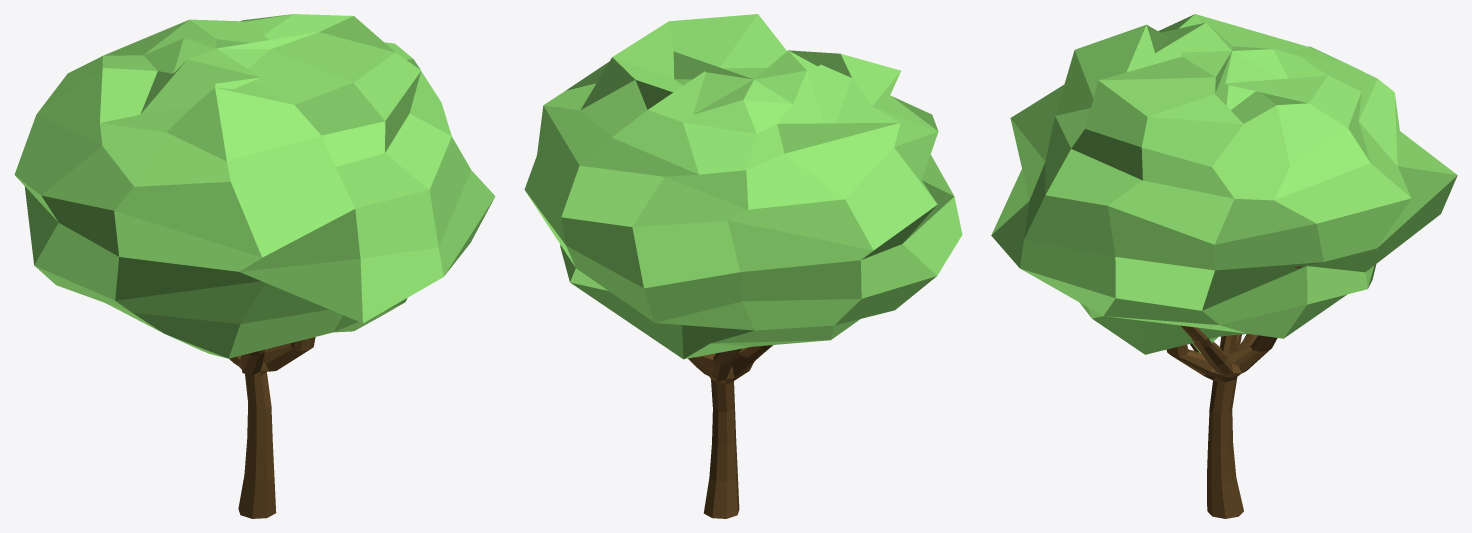
The model's file is LeavedTree.fbx.
The picture shows the model from 3 angles, left to right: view 1: azimuth 30°, elevation 25°; view 2: azimuth 150°, elevation 25°; view 3: azimuth 270°, elevation 25°; orthographic projection. The views are drawn at different scales.
Parts seen in each view (by area): view 1: Leavedtree; view 2: Leavedtree; view 3: Leavedtree.
Boxes of the visible parts, box(x1,y1,x2,y2) form: Leavedtree: box(14, 14, 495, 518); Leavedtree: box(524, 14, 962, 518); Leavedtree: box(991, 14, 1457, 518).
Size of the model in its own units: 882 by 995 by 931.
